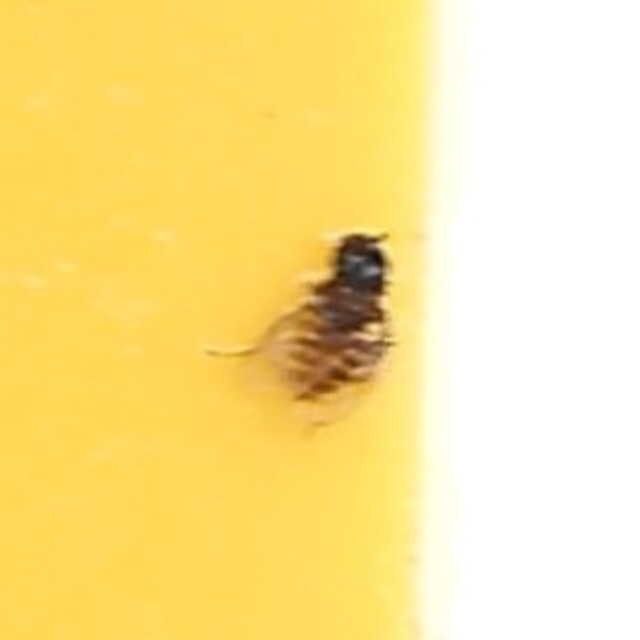Brachycera: (241, 220, 399, 420)
